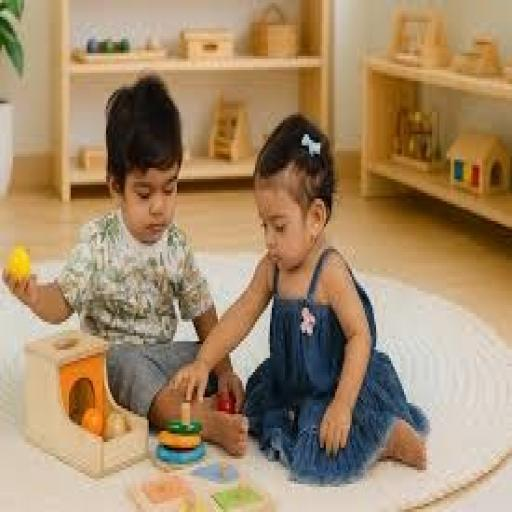baby: (170, 115, 428, 484), (4, 76, 217, 430)
